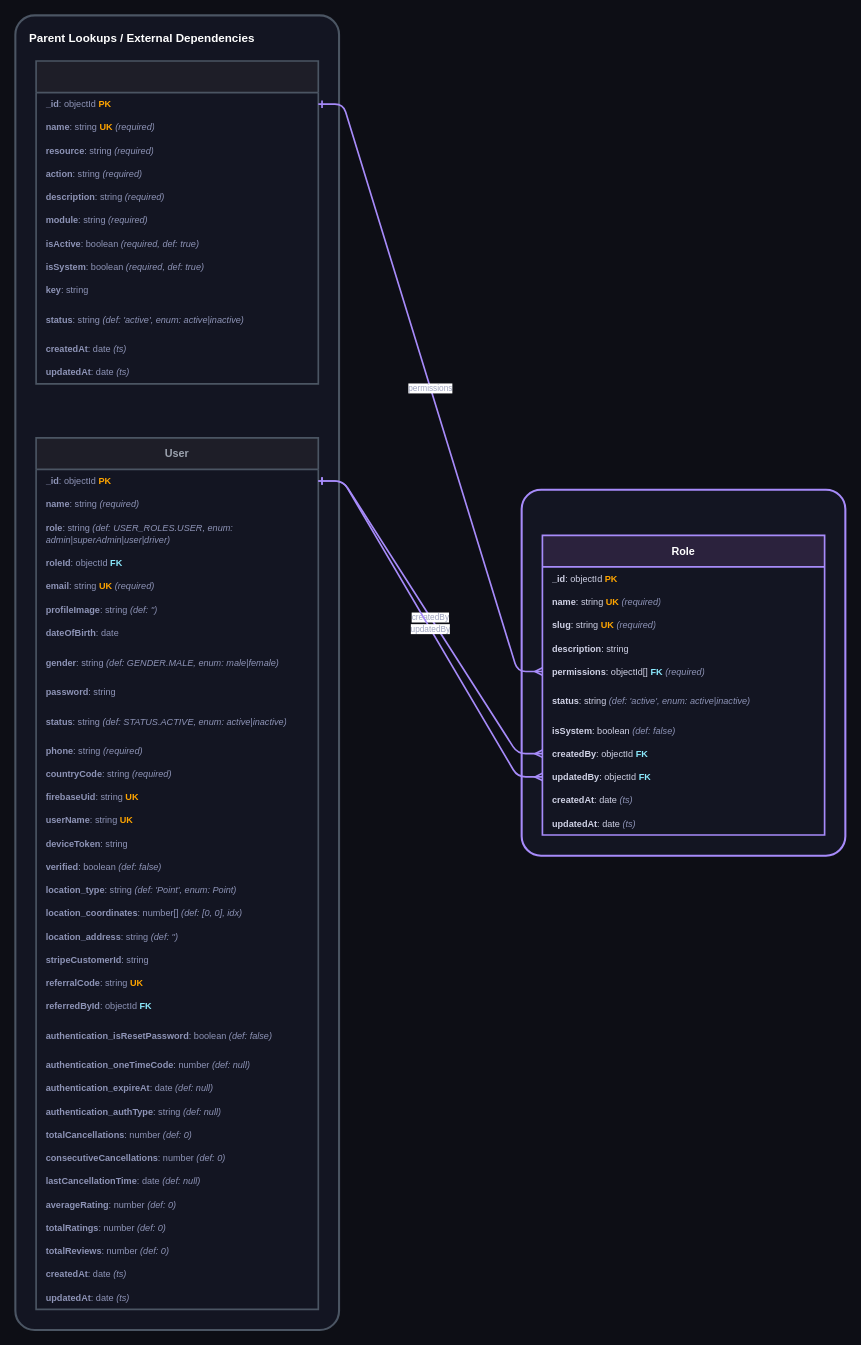
This 861x1345 diagram has some shape labels left out. Here are the shapes that lost their labels. From the top down, the box of each, then its label:
(35, 60, 319, 384): Permission
(520, 488, 846, 856): Core Module: Role
